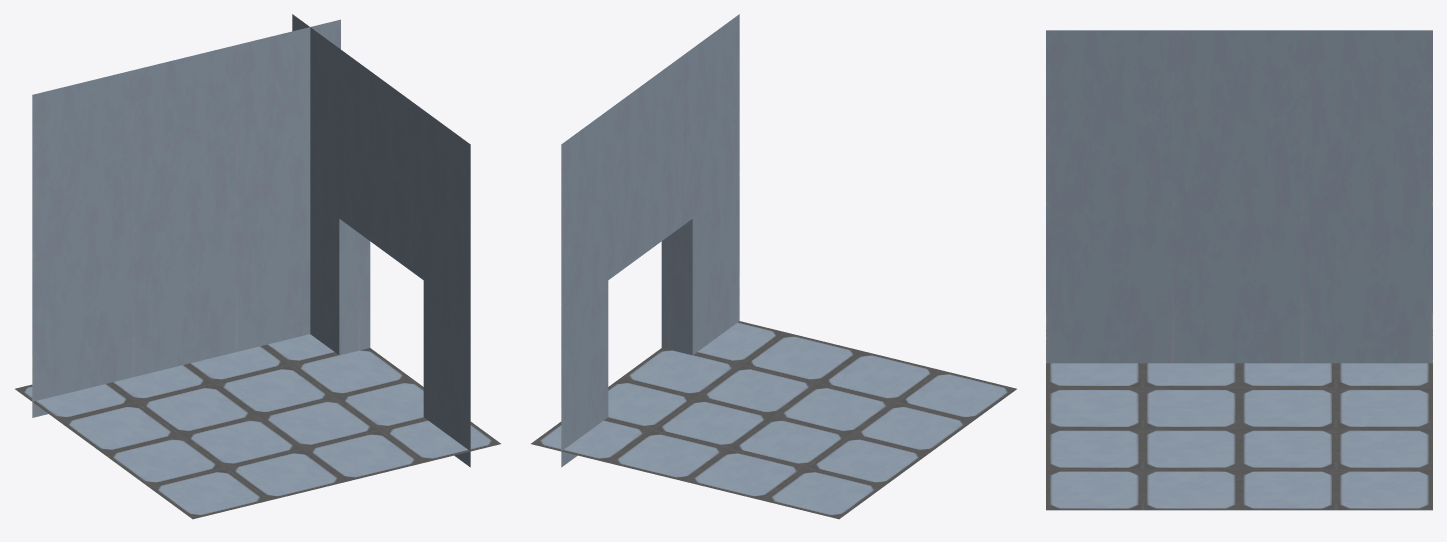
The model's file is Room_MTN_Door_End_1_F.glb.
3 views of the same model, side by side, from view 1: azimuth 30°, elevation 25°; view 2: azimuth 150°, elevation 25°; view 3: azimuth 270°, elevation 25° (orthographic). The views are drawn at different scales.
Parts seen in each view (by area): view 1: Room_MTN_Door_End_1_F; view 2: Room_MTN_Door_End_1_F; view 3: Room_MTN_Door_End_1_F.
Part boxes in pixels (x1,y1,x2,y2): Room_MTN_Door_End_1_F: (15,14,500,519); Room_MTN_Door_End_1_F: (531,14,1016,519); Room_MTN_Door_End_1_F: (1046,30,1432,510).
Size of the model in its own units: 4 by 4 by 4.
2 materials, 2 textured.
